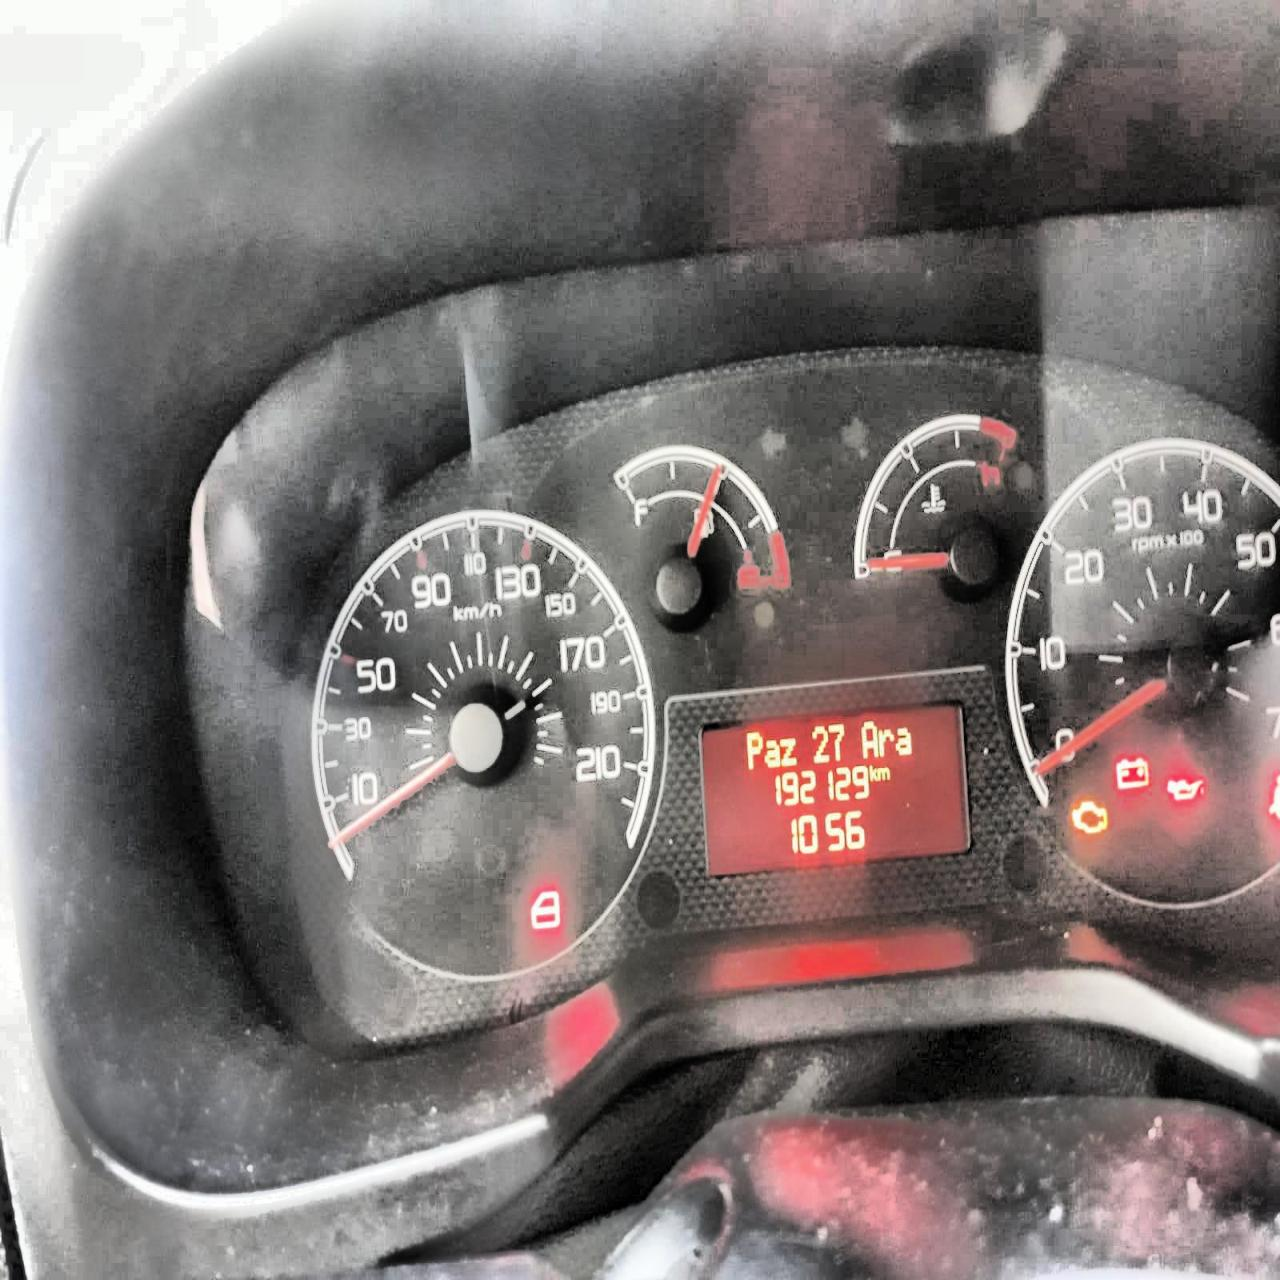0: (797, 812, 818, 855)
1: (788, 812, 798, 853), (824, 767, 835, 804), (772, 769, 782, 805)
2: (811, 723, 828, 764), (801, 767, 818, 804), (836, 764, 850, 799)
5: (824, 810, 845, 852)
6: (844, 809, 866, 850)
7: (829, 721, 846, 760)
9: (850, 764, 869, 799), (782, 770, 798, 805)
X: (744, 727, 763, 770), (859, 719, 878, 756), (877, 726, 894, 757), (894, 724, 912, 756), (781, 735, 798, 767), (764, 737, 779, 768), (867, 761, 878, 782), (878, 765, 891, 781)
odometer: (697, 687, 973, 872)
